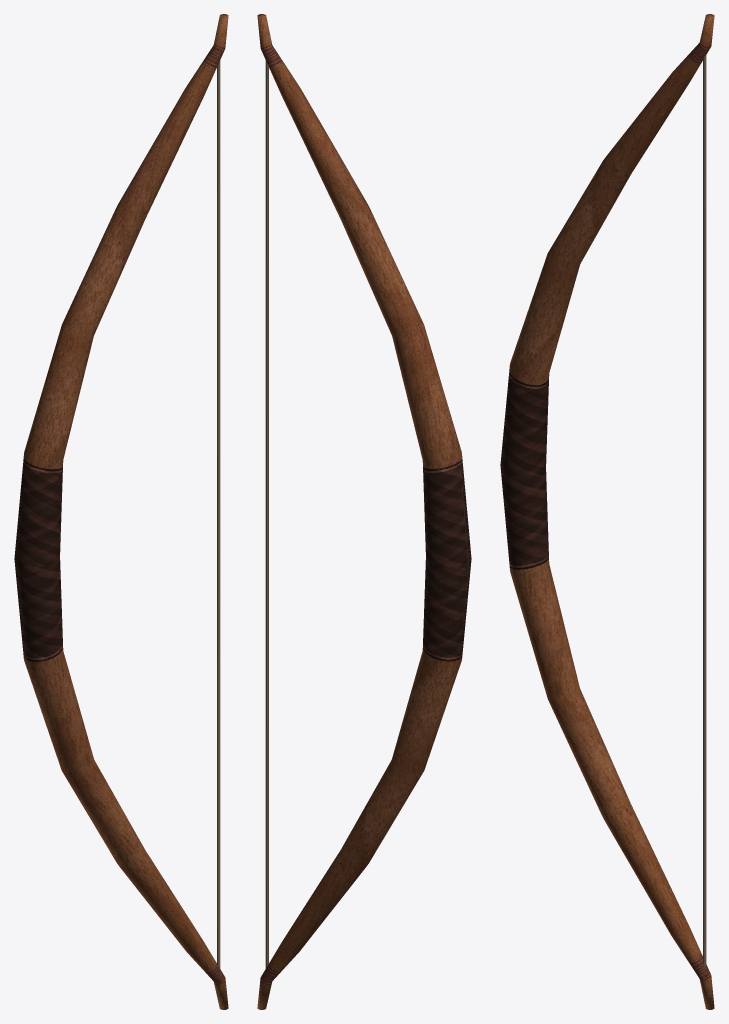
File: Bow_Long.glb
3 views of the same model, side by side, from view 1: azimuth 30°, elevation 25°; view 2: azimuth 150°, elevation 25°; view 3: azimuth 330°, elevation 25° (orthographic).
Parts seen in each view (by area): view 1: bow; view 2: bow; view 3: bow.
Part boxes in pixels (<box>): bow: <box>14,14,228,1009</box>; bow: <box>257,14,471,1009</box>; bow: <box>500,14,714,1009</box>.
Size of the model in its own units: 0.2889 by 1.3 by 0.0546.
1 material, 1 textured.
